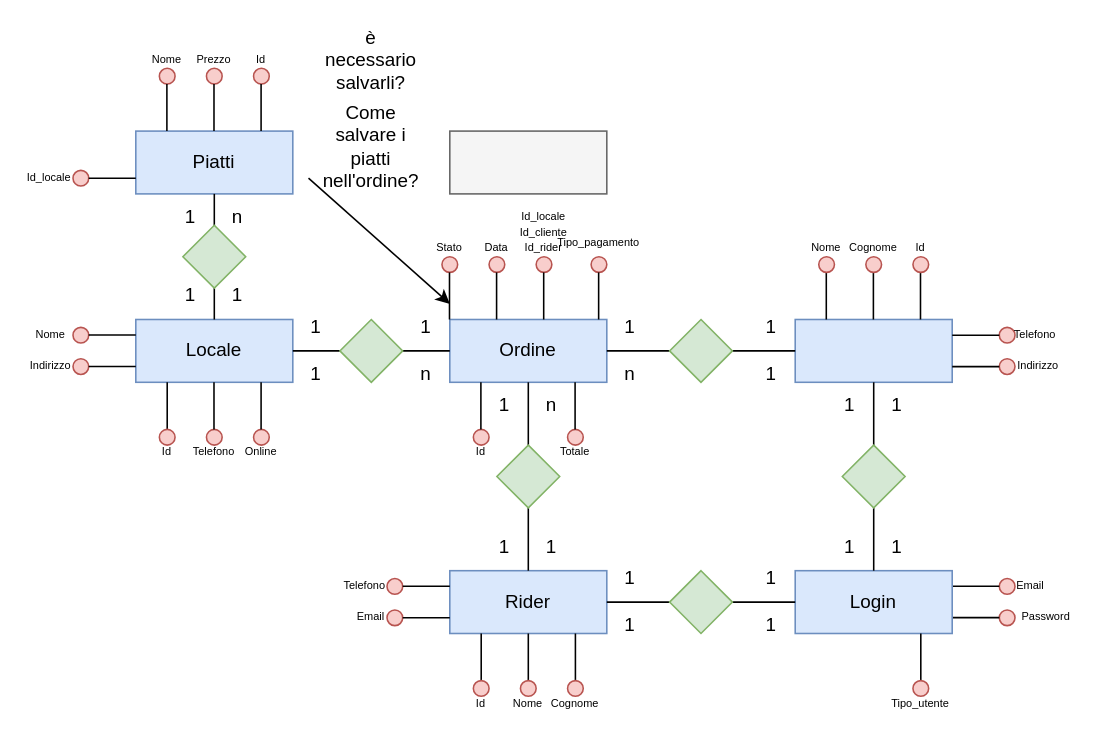
This 1097x739 diagram has some shape labels left out. The shapes that lost their labels are listed below. From the top down, each one's box as (x1, y1, x2, y2) in pixels, then its label:
(448, 130, 607, 194): Food Delivery
(794, 318, 952, 382): Cliente
